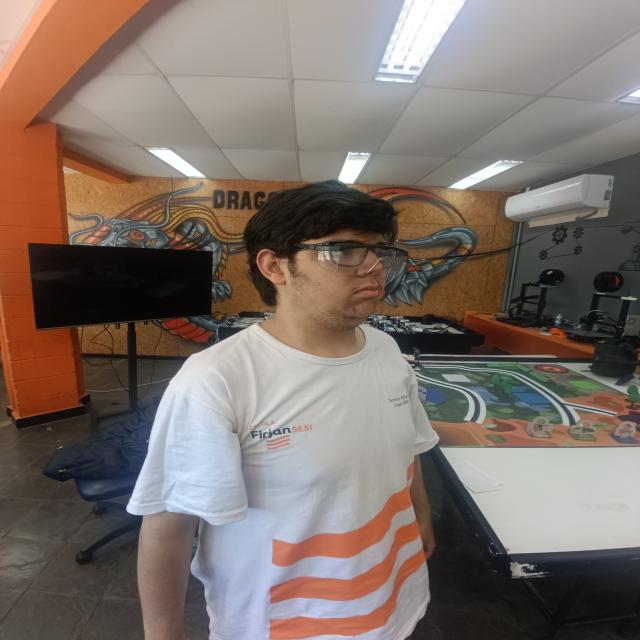oculos-epi: (294, 243, 408, 276)
